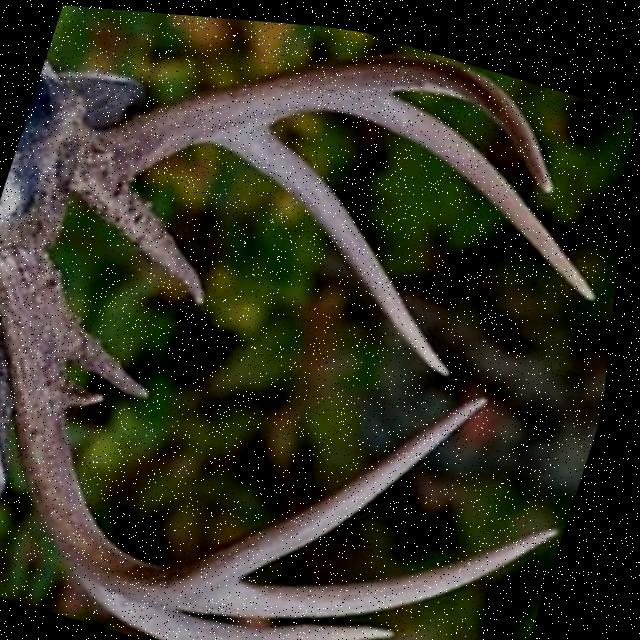E1: (70, 376, 114, 407)
L-F: (0, 245, 495, 600)
L-G1: (69, 304, 156, 399)
L-G2: (88, 573, 407, 640)
L-G3: (187, 515, 570, 613)
R-F: (56, 47, 556, 195)
R-G1: (82, 184, 211, 301)
R-G2: (209, 122, 456, 370)
R-G3: (343, 87, 600, 292)
